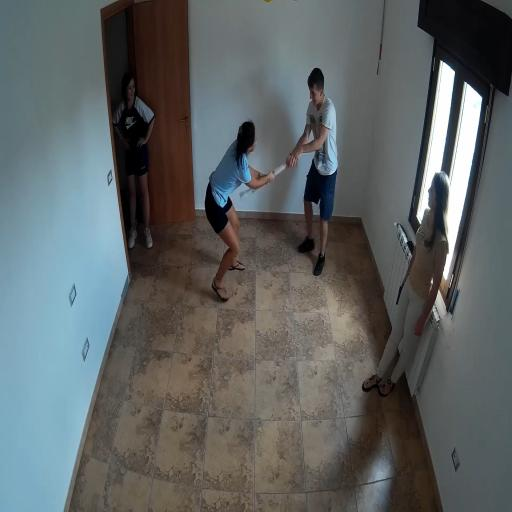violencia: (184, 23, 354, 330)
